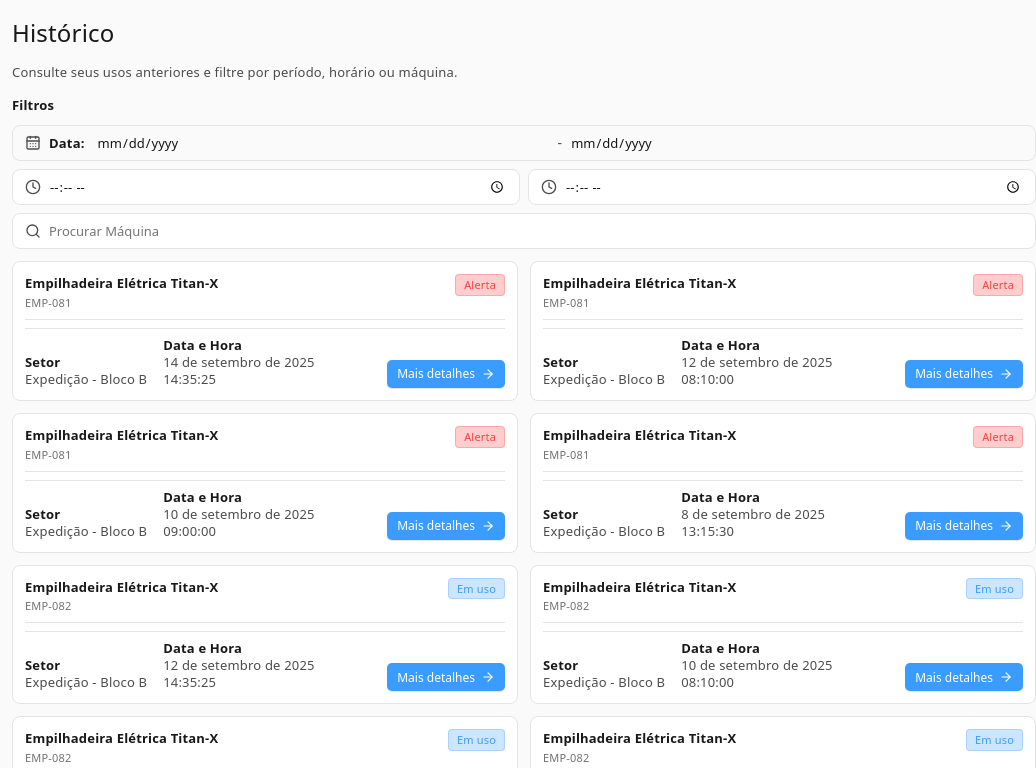
EmployeeHistoryPage › no match shows the empty message
The image size is (1036, 768).
In the search field with placeholder "Procurar Máquina": (536, 231) [49,214,1023,248], type "zzzz"
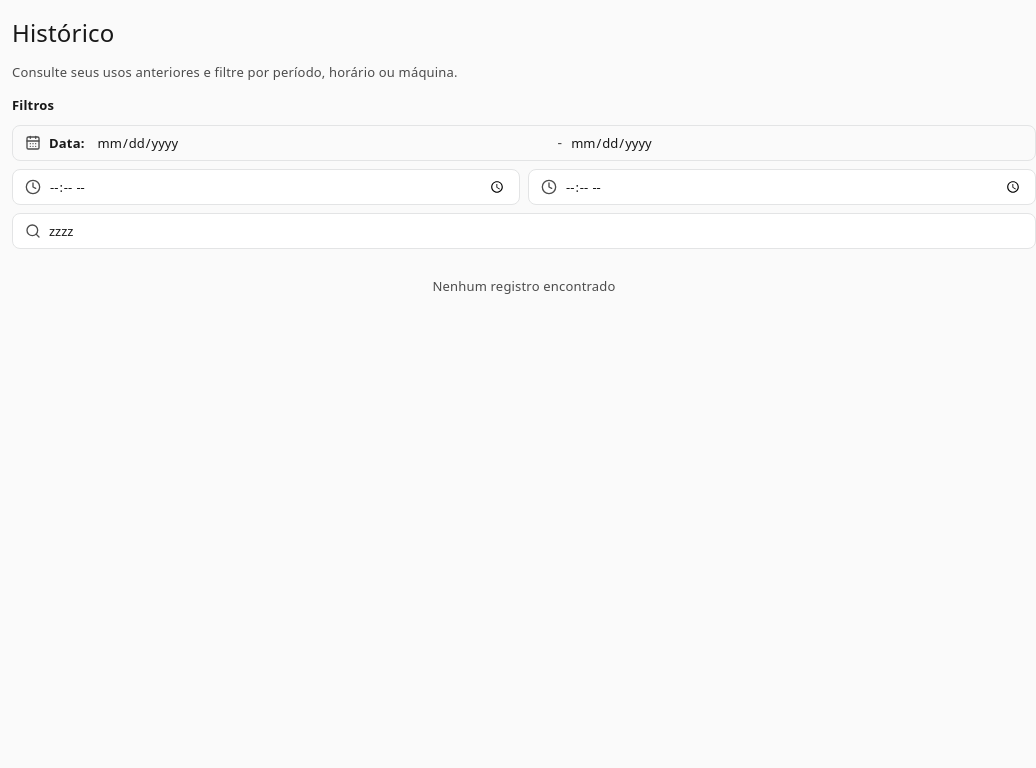
Now the text "Nenhum registro encontrado" is shown, box [432,277,616,295]
